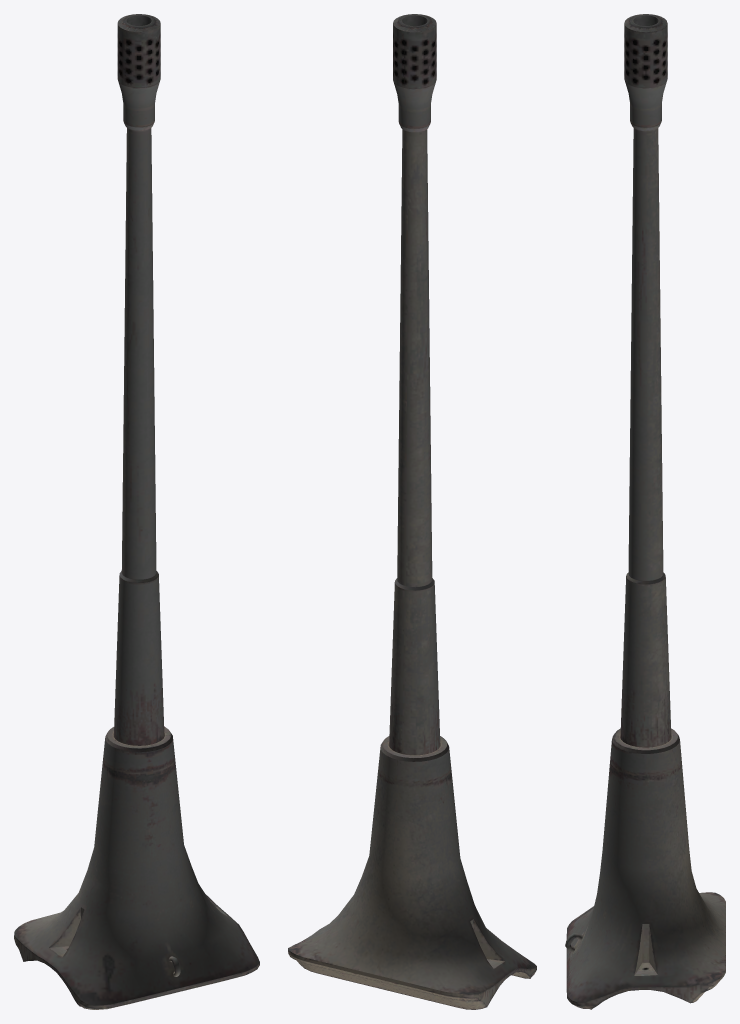
File: Gun_01.glb
3 views of the same model, side by side, from view 1: azimuth 30°, elevation 25°; view 2: azimuth 150°, elevation 25°; view 3: azimuth 270°, elevation 25° (orthographic).
Visible parts, largest first — view 1: set_0_group_0; view 2: set_0_group_0; view 3: set_0_group_0.
Part boxes in pixels (x1,y1,x2,y2): set_0_group_0: (14,14,259,1009); set_0_group_0: (288,14,536,1009); set_0_group_0: (565,14,725,1009).
Bounding box in the file's own units: 1.29 × 6.23 × 0.9582.
Materials: 1 (1 with a texture image).
